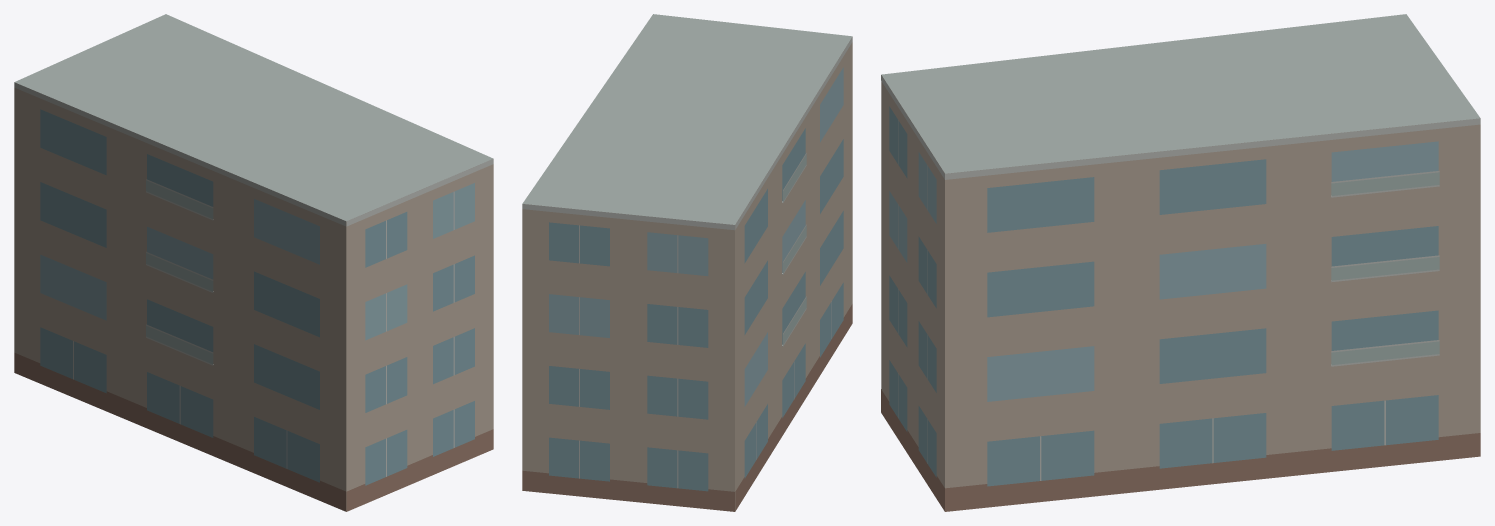
File: survey-upis-32911587.glb
The picture shows the model from 3 angles, left to right: view 1: azimuth 30°, elevation 25°; view 2: azimuth 150°, elevation 25°; view 3: azimuth 270°, elevation 25°; orthographic projection. The views are drawn at different scales.
Parts seen in each view (by area): view 1: survey-upis-32911587.tmp; view 2: survey-upis-32911587.tmp; view 3: survey-upis-32911587.tmp.
Part boxes in pixels (x1,y1,x2,y2): survey-upis-32911587.tmp: [14, 14, 493, 511]; survey-upis-32911587.tmp: [522, 14, 852, 511]; survey-upis-32911587.tmp: [881, 14, 1480, 511].
Size of the model in its own units: 13.48 by 13.3 by 21.38.
